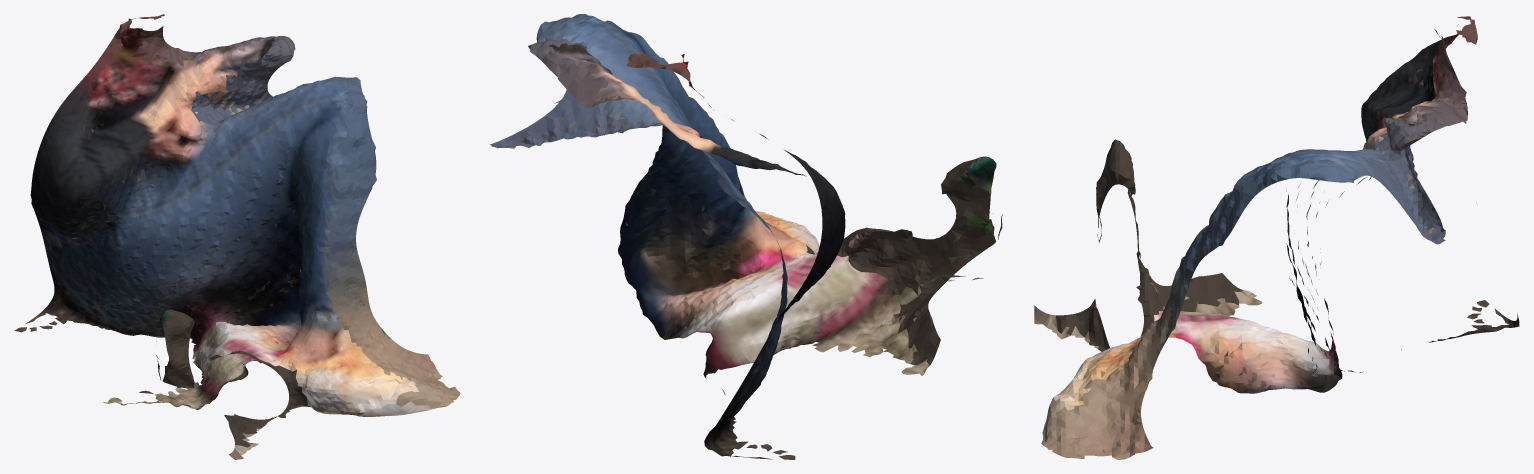
The picture shows the model from 3 angles, left to right: view 1: azimuth 30°, elevation 25°; view 2: azimuth 150°, elevation 25°; view 3: azimuth 270°, elevation 25°; orthographic projection. The views are drawn at different scales.
Size of the model in its own units: 0.4783 by 0.4667 by 0.5953.
1 material, 1 textured.
